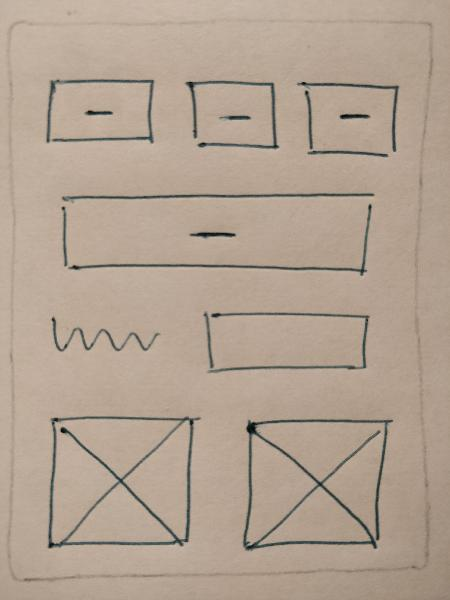button: (53, 186, 383, 279), (292, 73, 407, 167), (34, 70, 169, 150), (182, 74, 283, 154)
image: (36, 402, 208, 549), (236, 405, 396, 557)
text: (41, 310, 167, 364)
text_input: (195, 304, 379, 384)
